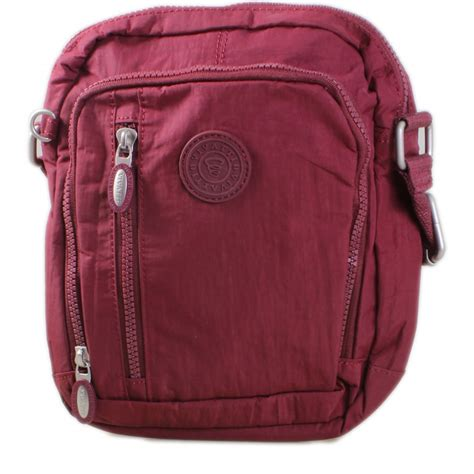nylon: (35, 3, 430, 442)
